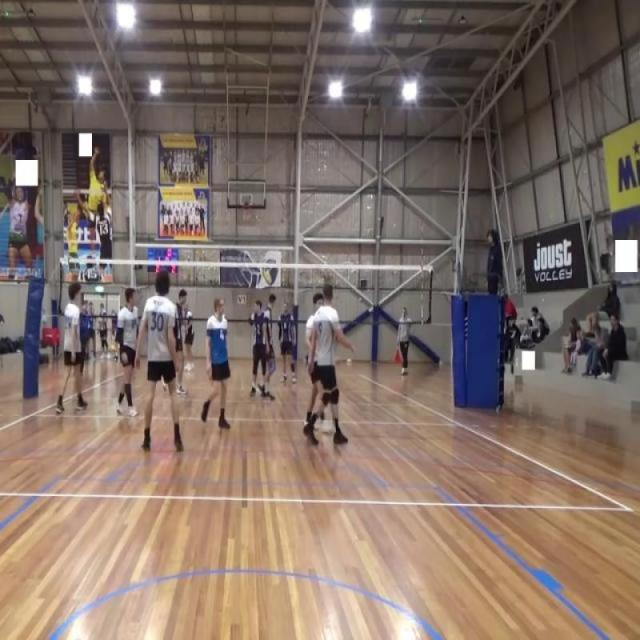volleyball: (107, 344, 117, 356)
